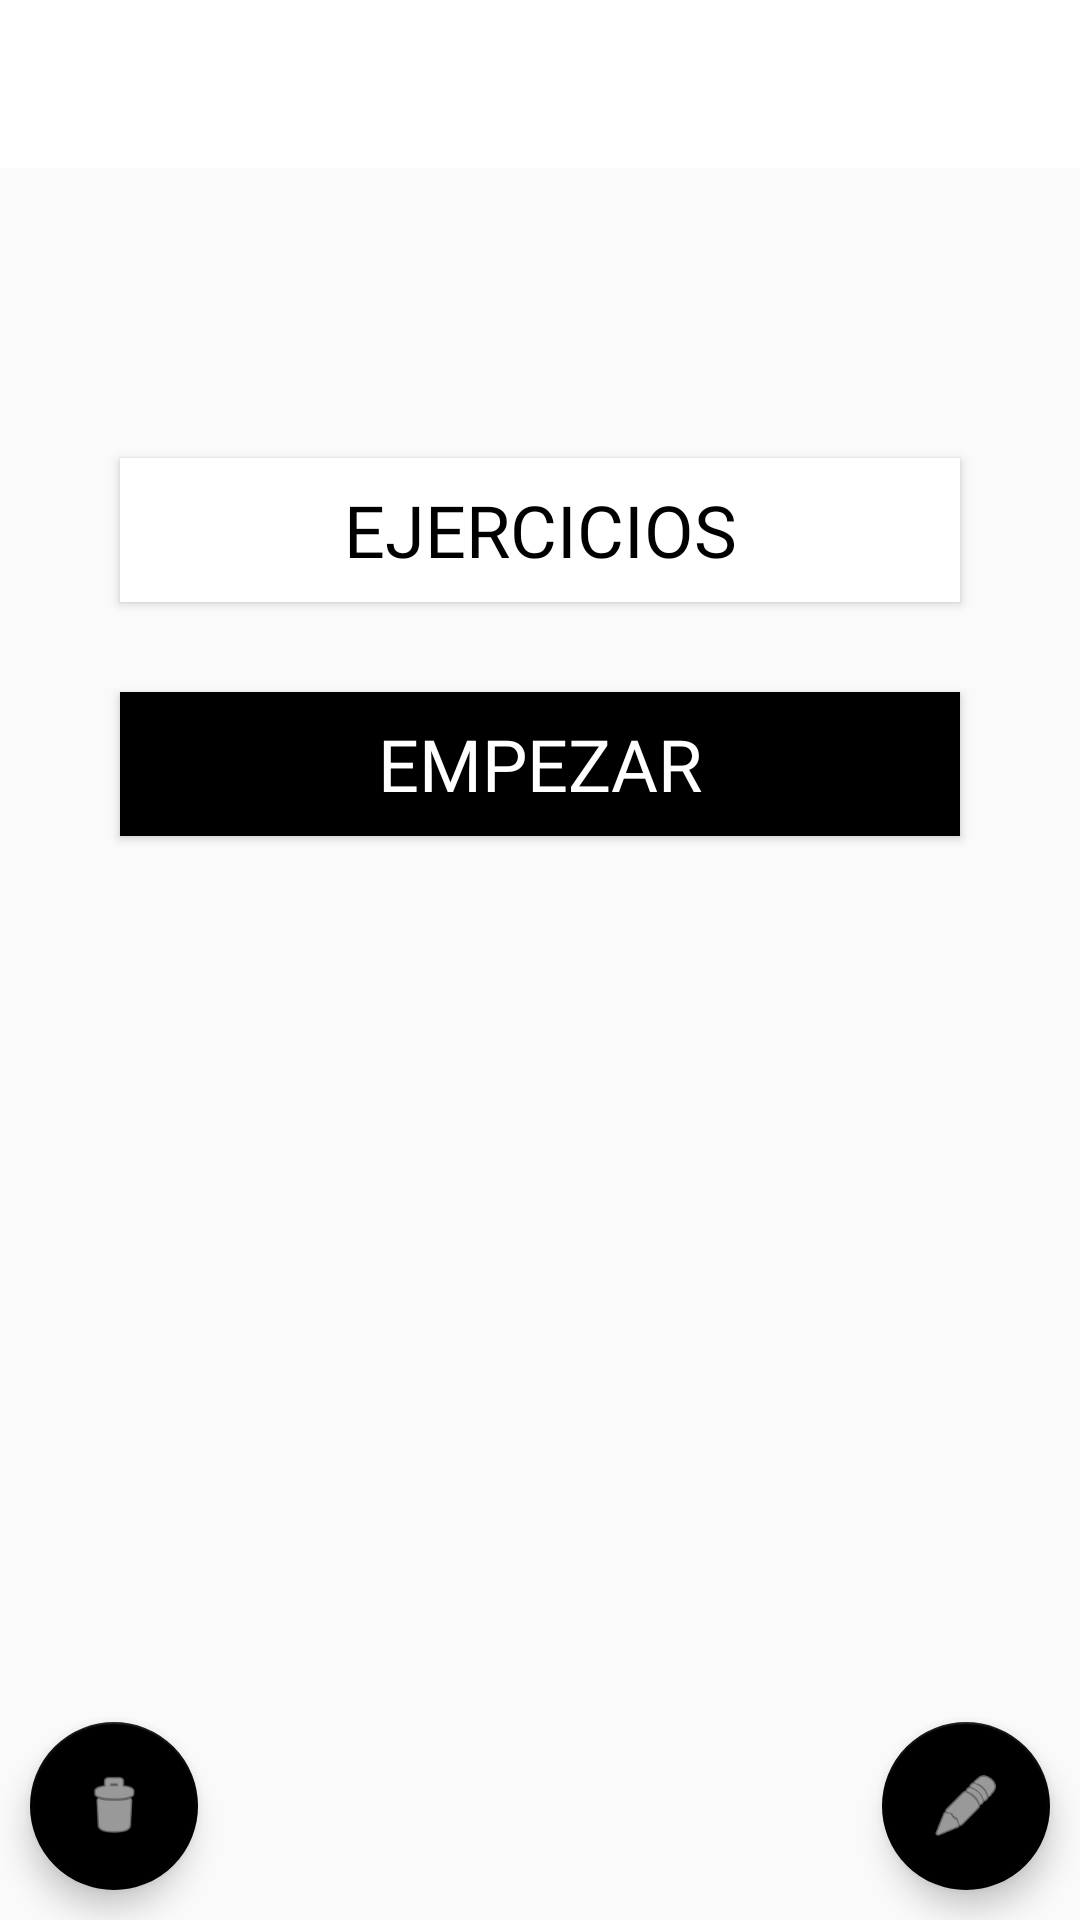

Screen size 1080px×1920px. Icon name, then its box in pixels as (x1=x1, y1=y1, x2=x2, y2=y2):
delete: (x1=30, y1=1722, x2=198, y2=1890)
edit: (x1=882, y1=1722, x2=1050, y2=1890)
